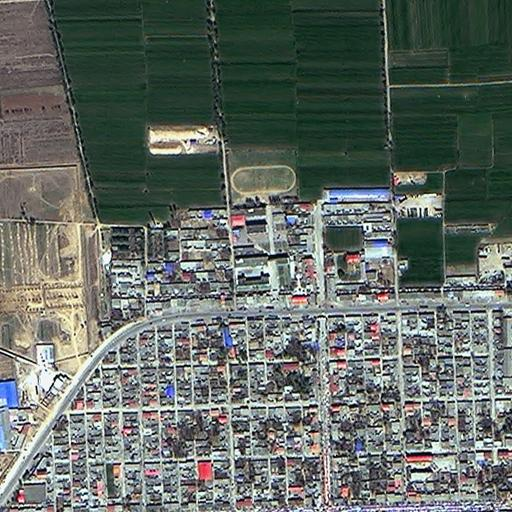school: (224, 156, 298, 312)
